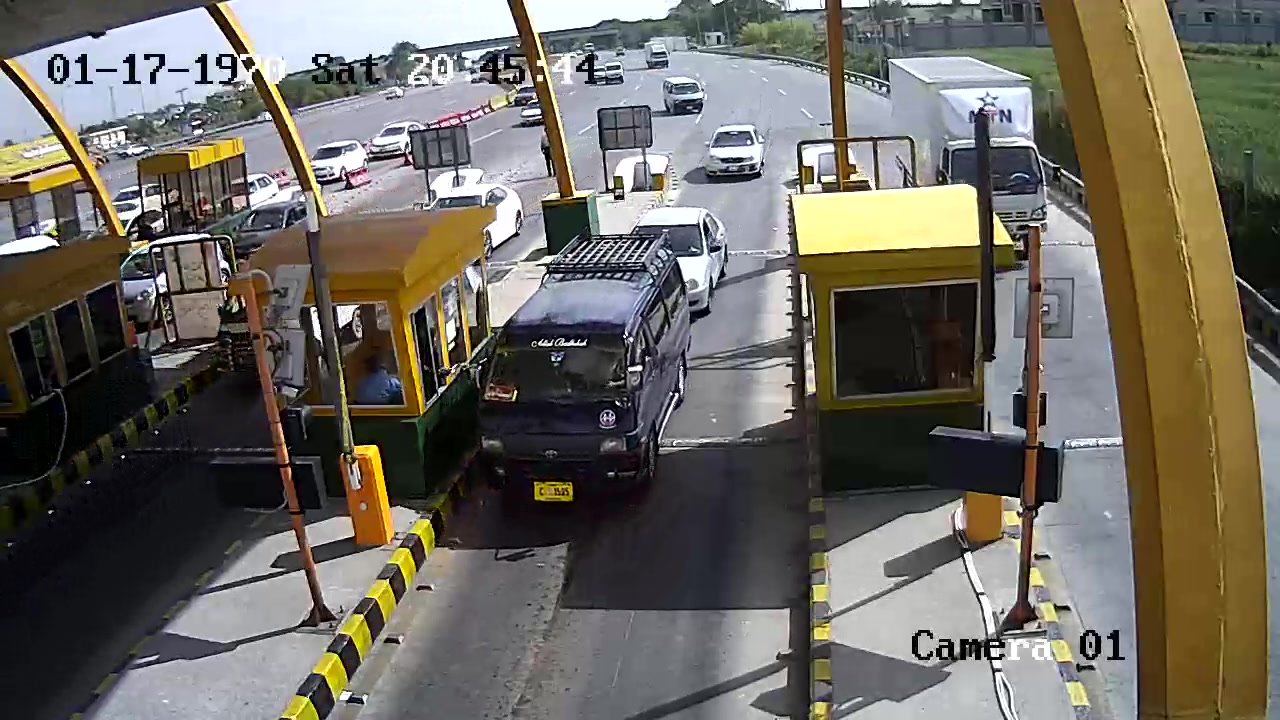F3: (466, 232, 689, 512)
